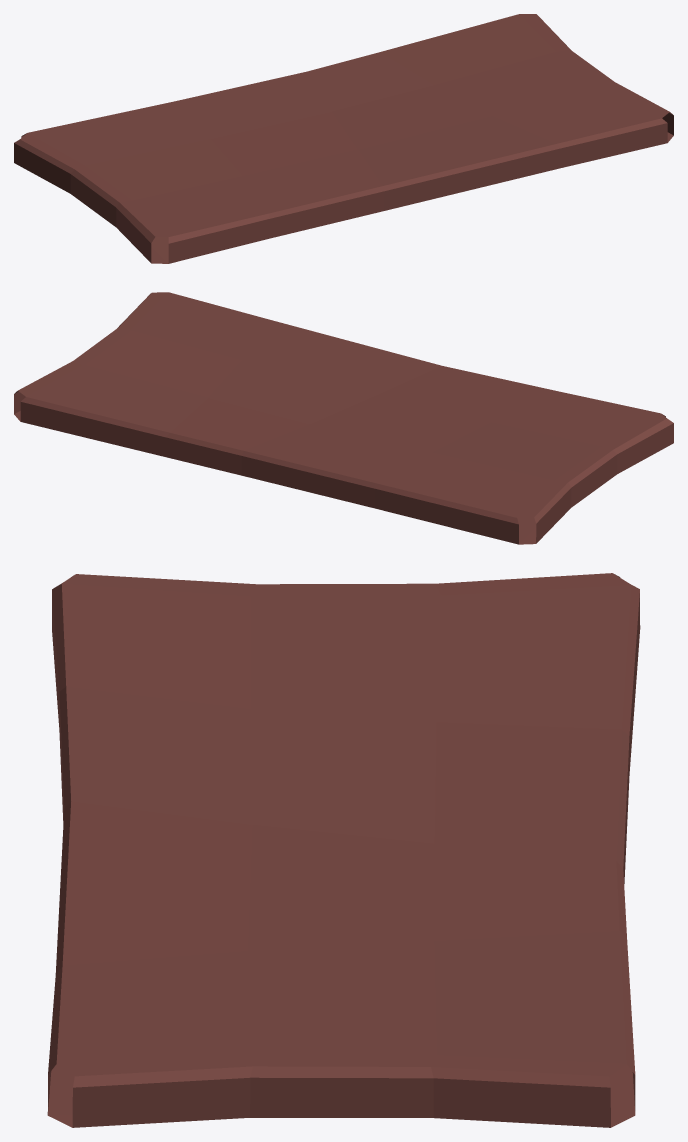
Rendered from Carpet.001.fbx.
3 views of the same model, one above another, from view 1: azimuth 30°, elevation 25°; view 2: azimuth 150°, elevation 25°; view 3: azimuth 270°, elevation 25° (orthographic). The views are drawn at different scales.
Parts seen in each view (by area): view 1: Carpet.001; view 2: Carpet.001; view 3: Carpet.001.
Part boxes in pixels (x1,y1,x2,y2): Carpet.001: (14, 14, 673, 263); Carpet.001: (14, 292, 673, 544); Carpet.001: (47, 573, 640, 1127).
Bounding box in the file's own units: 316 × 15.62 × 155.
